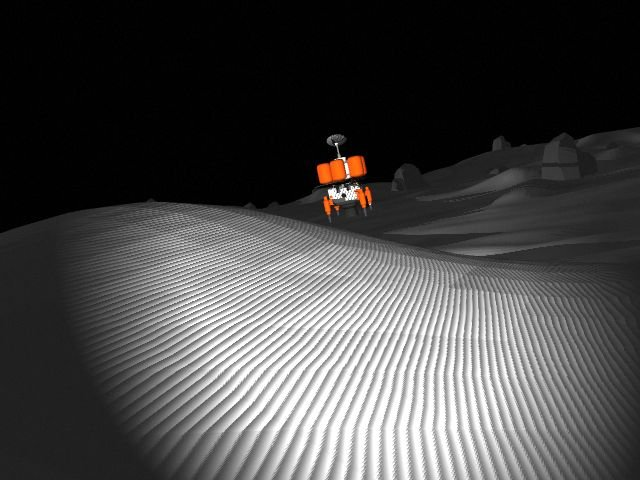homebase: (312, 131, 378, 229)
